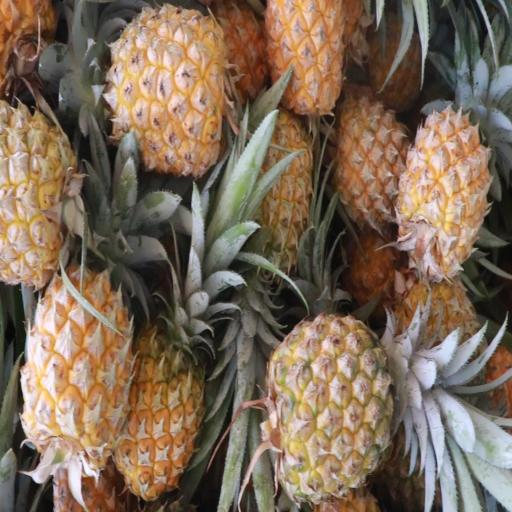------------------------------: (251, 310, 450, 500)
Pineapple - v8 v1: (20, 255, 130, 497), (112, 238, 210, 504), (82, 8, 224, 176), (218, 97, 313, 316), (390, 103, 496, 299), (329, 90, 404, 231)
